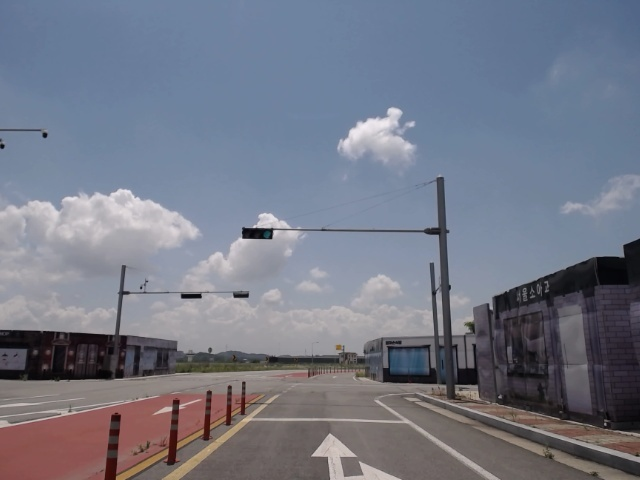green_3: (243, 230, 271, 239)
